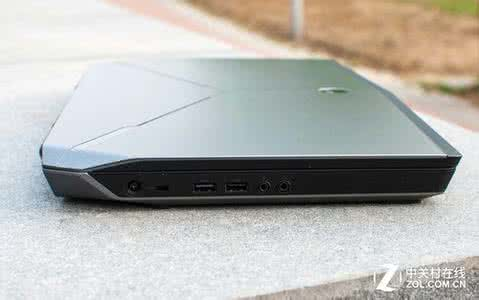phone: (33, 56, 460, 203)
